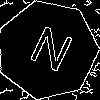N: (22, 25, 76, 81)
